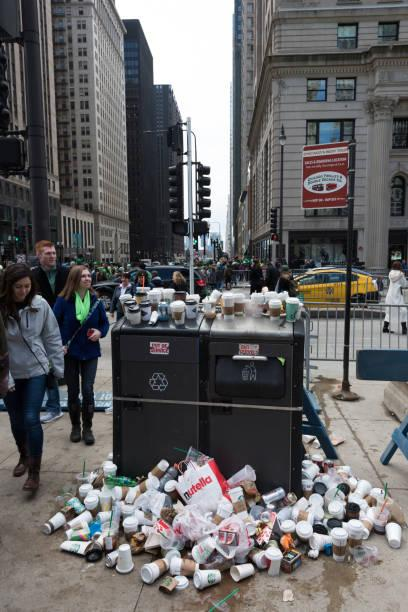trash: (30, 440, 408, 596), (104, 269, 215, 332), (200, 280, 318, 326), (66, 502, 126, 557), (136, 489, 202, 533), (168, 525, 217, 580), (93, 457, 156, 499), (185, 461, 238, 509), (189, 496, 239, 545), (104, 489, 166, 524), (243, 505, 279, 564), (359, 489, 404, 536), (332, 465, 379, 509), (265, 521, 328, 553), (65, 466, 109, 511), (299, 426, 334, 477), (301, 471, 344, 506), (323, 517, 366, 551), (249, 485, 283, 528), (254, 539, 295, 574), (357, 503, 403, 534), (132, 463, 176, 495), (124, 514, 156, 553), (214, 548, 245, 588), (292, 497, 331, 527), (32, 506, 74, 532), (163, 465, 193, 501), (227, 473, 261, 500), (222, 513, 246, 551), (139, 559, 173, 581), (331, 498, 362, 522), (161, 571, 192, 594), (276, 498, 301, 525), (113, 550, 141, 574), (245, 576, 281, 588), (383, 534, 404, 551)
trash_can_overflow: (54, 274, 382, 581)
